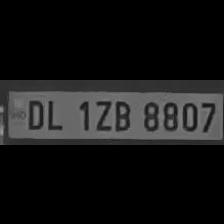0: (178, 97, 198, 130)
1: (70, 97, 92, 131)
7: (198, 98, 216, 132)
8: (138, 97, 160, 131), (160, 98, 178, 132)
B: (110, 97, 132, 131)
D: (22, 96, 44, 128)
L: (43, 96, 66, 130)
Z: (92, 96, 112, 132)
